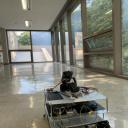cart: (43, 86, 111, 128)
